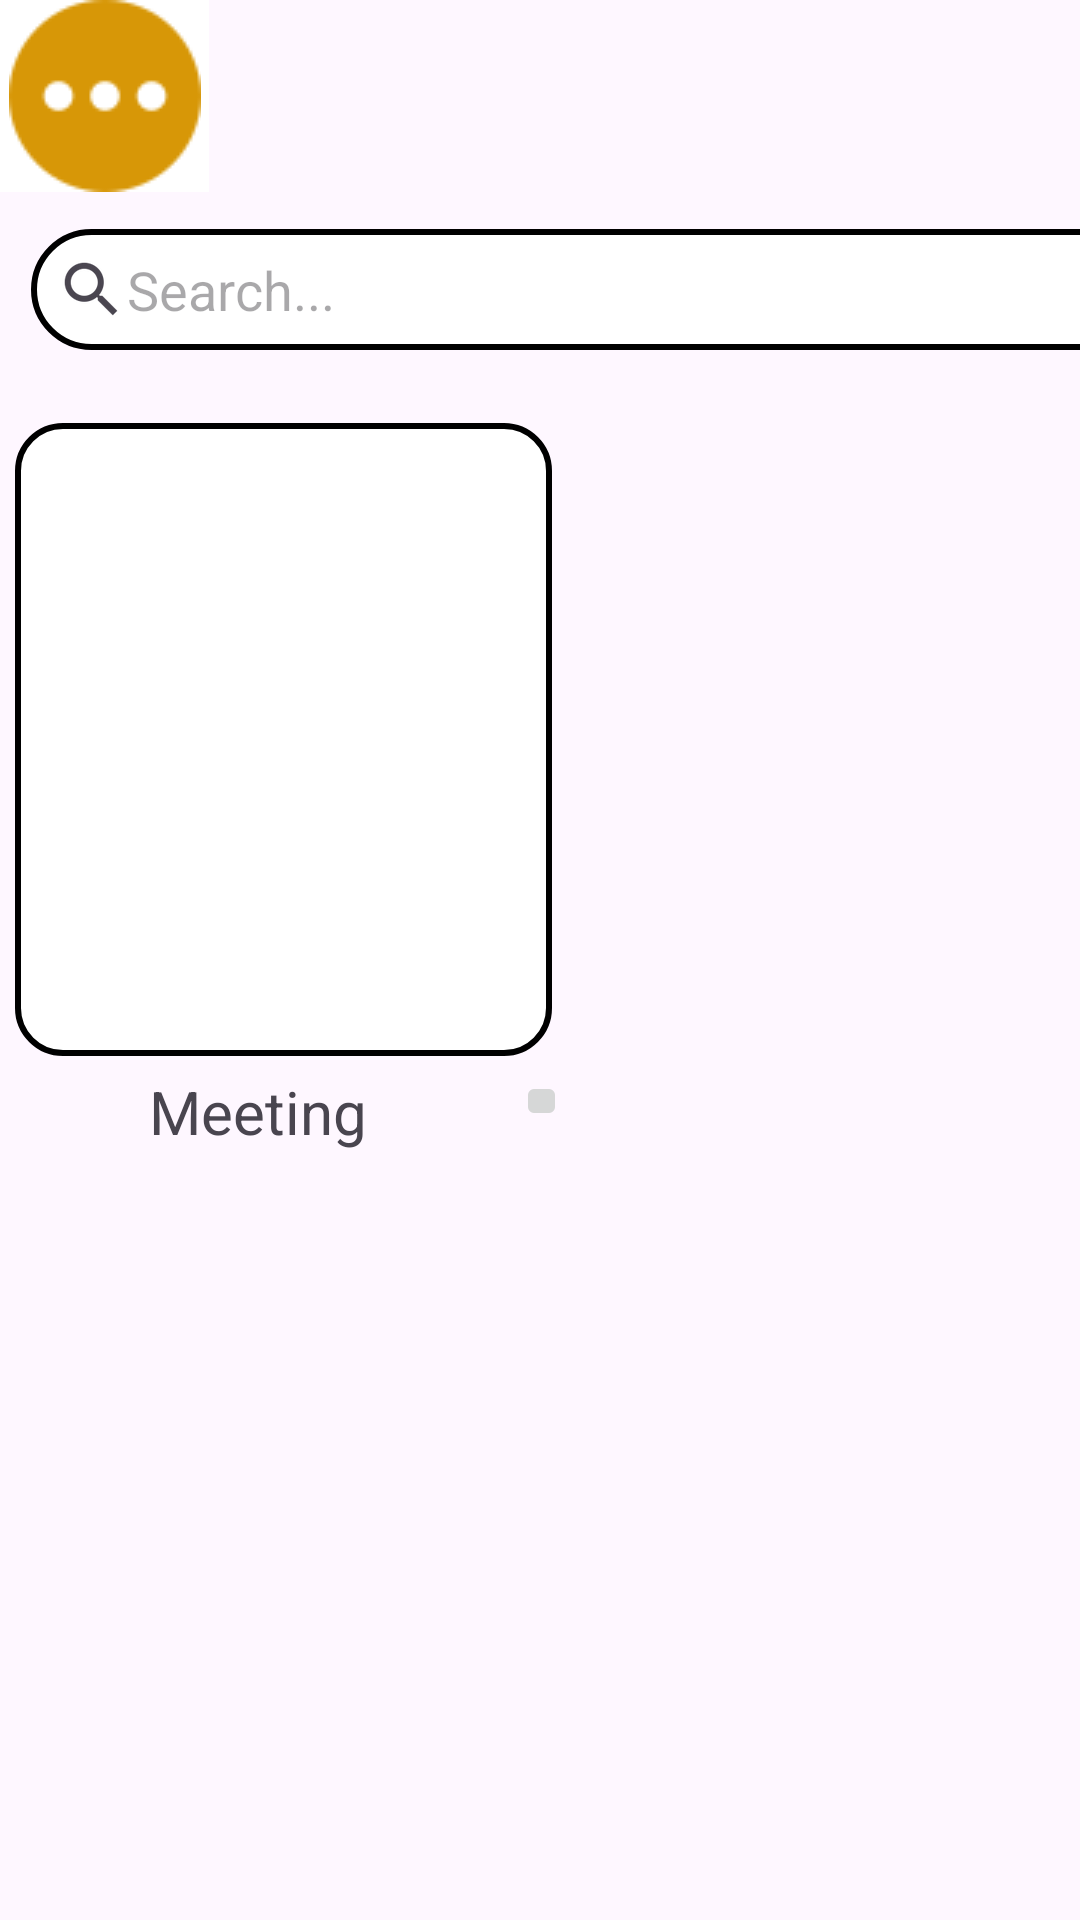

Named icons in this screenshot (1080*1920) and their bounding boxes, (x1, y1, x2, y2):
more: (9, 0, 201, 192)
